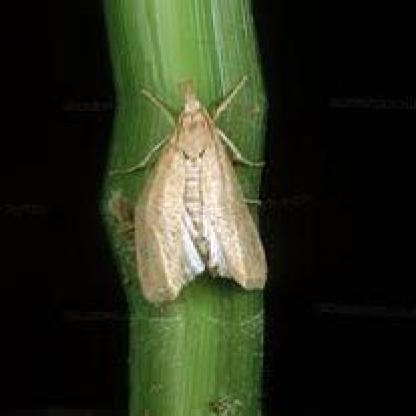stem-borer: (131, 75, 260, 301)
